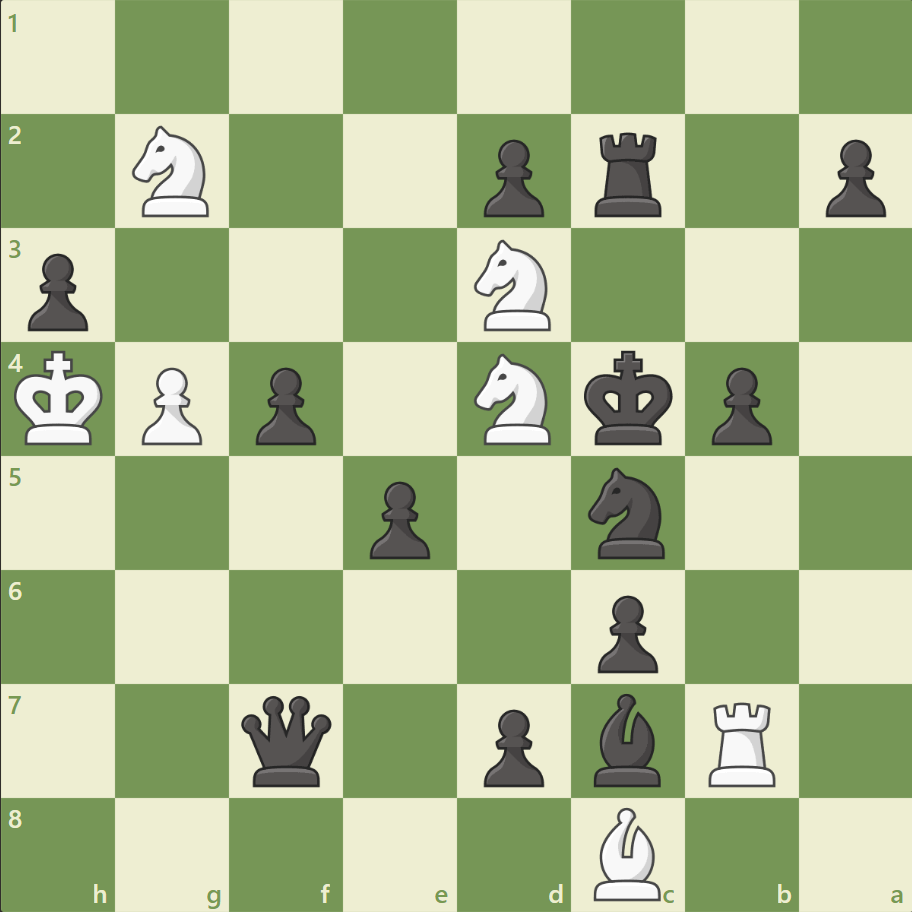B: (585, 801, 669, 904)
K: (11, 344, 111, 452)
N: (124, 121, 222, 223), (465, 234, 562, 337), (465, 348, 562, 450)
P: (133, 359, 208, 450)
R: (700, 693, 783, 790)
b: (585, 687, 669, 790)
k: (579, 344, 679, 452)
n: (579, 461, 676, 564)
p: (474, 700, 549, 791), (701, 359, 776, 450), (247, 359, 322, 450), (20, 246, 95, 337), (474, 132, 549, 223), (588, 586, 662, 677), (361, 473, 435, 564), (815, 132, 889, 223)
q: (237, 690, 336, 789)
r: (587, 125, 670, 222)
